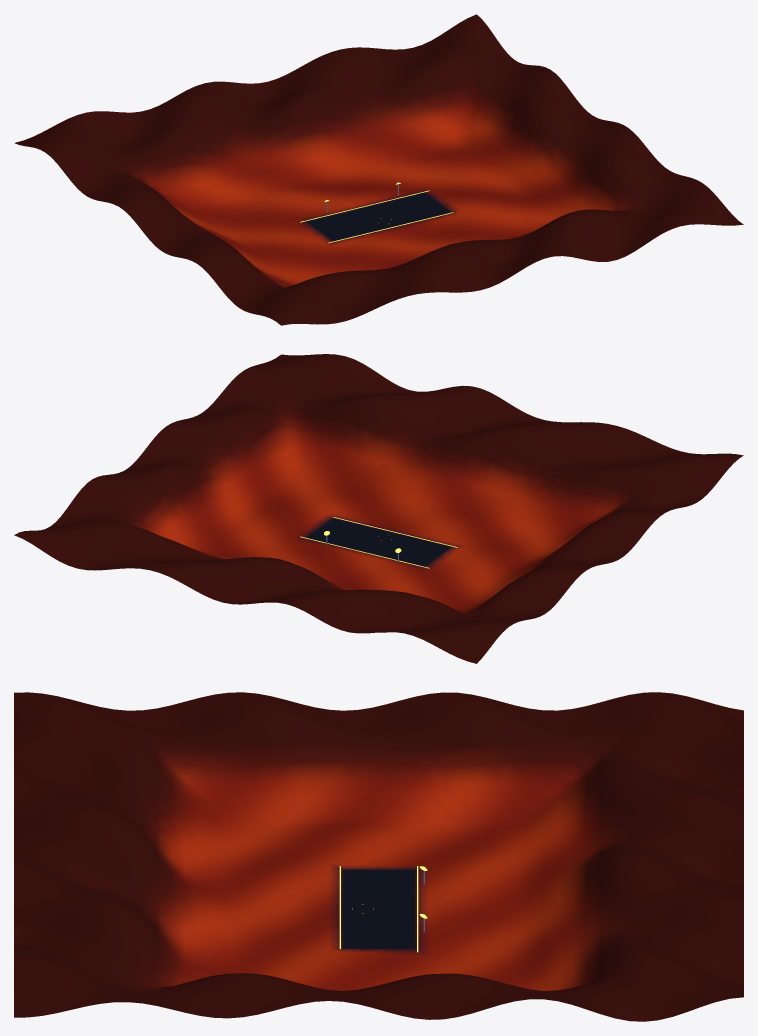
File: sector4_orion_recovery.glb
3 views of the same model, one above another, from view 1: azimuth 30°, elevation 25°; view 2: azimuth 150°, elevation 25°; view 3: azimuth 270°, elevation 25° (orthographic). The views are drawn at different scales.
Parts seen in each view (by area): view 1: Sector4OrionRecovery; view 2: Sector4OrionRecovery; view 3: Sector4OrionRecovery.
Part boxes in pixels (x1,y1,x2,y2): Sector4OrionRecovery: (14, 14, 743, 325); Sector4OrionRecovery: (14, 354, 743, 663); Sector4OrionRecovery: (14, 692, 743, 1021).
Bounding box in the file's own units: 136 × 14.6 × 136.
